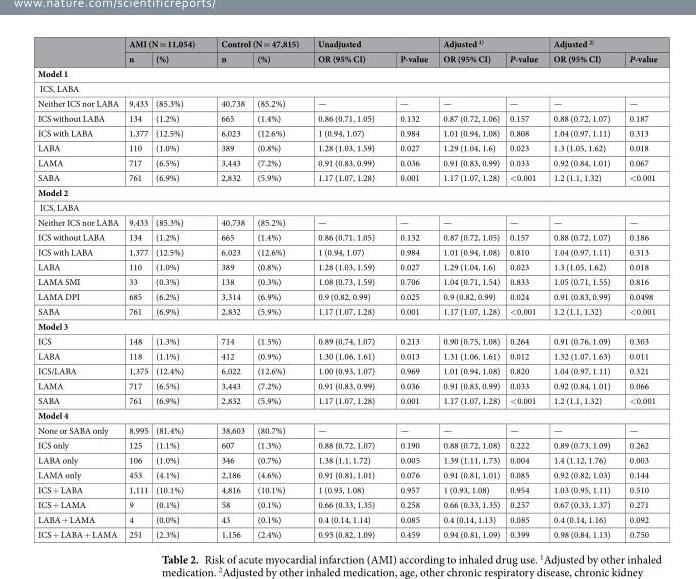table: (37, 37, 656, 539)
table column: (37, 37, 123, 539), (307, 37, 386, 539), (544, 37, 619, 539), (434, 37, 504, 539), (250, 37, 307, 539), (151, 37, 207, 539), (386, 37, 434, 539), (207, 37, 250, 539), (504, 37, 544, 539), (619, 37, 656, 539), (123, 37, 151, 539)
table column header: (37, 37, 656, 65)
table projected row header: (37, 65, 656, 80), (37, 80, 656, 95), (37, 184, 656, 199), (37, 199, 656, 214), (37, 318, 656, 333), (37, 407, 656, 422)
table row: (37, 50, 656, 65), (37, 65, 656, 80), (37, 80, 656, 95), (37, 95, 656, 110), (37, 110, 656, 125), (37, 125, 656, 140), (37, 154, 656, 169), (37, 169, 656, 184), (37, 184, 656, 199), (37, 199, 656, 214), (37, 214, 656, 229), (37, 229, 656, 244), (37, 244, 656, 259), (37, 273, 656, 288), (37, 288, 656, 303), (37, 303, 656, 318), (37, 318, 656, 333), (37, 333, 656, 348), (37, 348, 656, 363), (37, 377, 656, 392), (37, 392, 656, 407), (37, 407, 656, 422), (37, 422, 656, 437), (37, 437, 656, 452), (37, 452, 656, 467), (37, 481, 656, 496), (37, 496, 656, 511), (37, 511, 656, 526), (37, 140, 656, 154), (37, 259, 656, 273), (37, 363, 656, 377), (37, 467, 656, 481), (37, 37, 656, 50), (37, 526, 656, 539)
table spanning cell: (307, 37, 434, 50), (544, 37, 656, 50), (434, 37, 544, 50), (207, 37, 307, 50), (123, 37, 207, 50)
